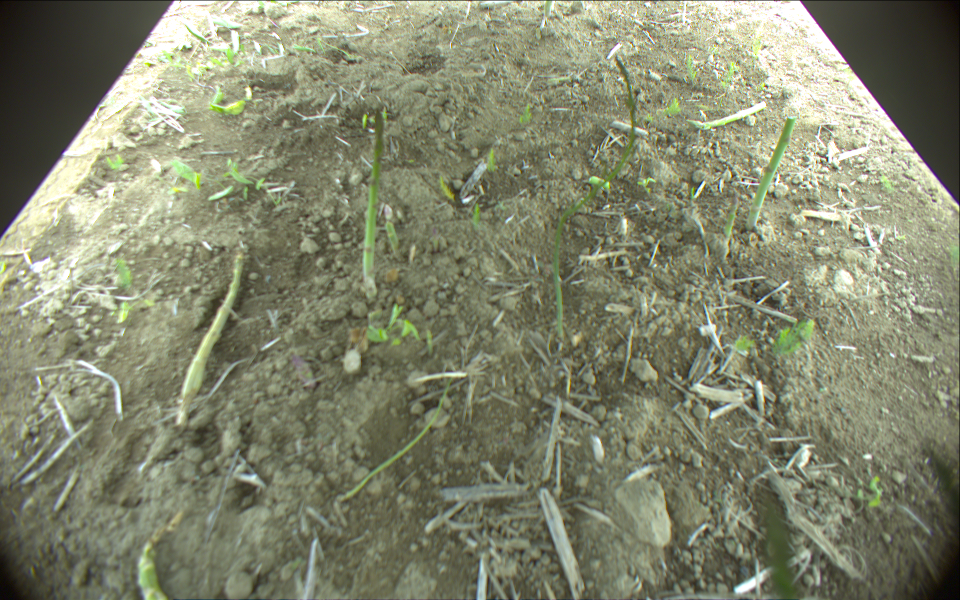aspa: (553, 56, 636, 342), (338, 373, 455, 501), (180, 250, 244, 405), (745, 115, 797, 230), (756, 481, 805, 600), (363, 109, 384, 294), (689, 102, 766, 127), (136, 542, 166, 600), (726, 195, 738, 236), (543, 1, 551, 18)
